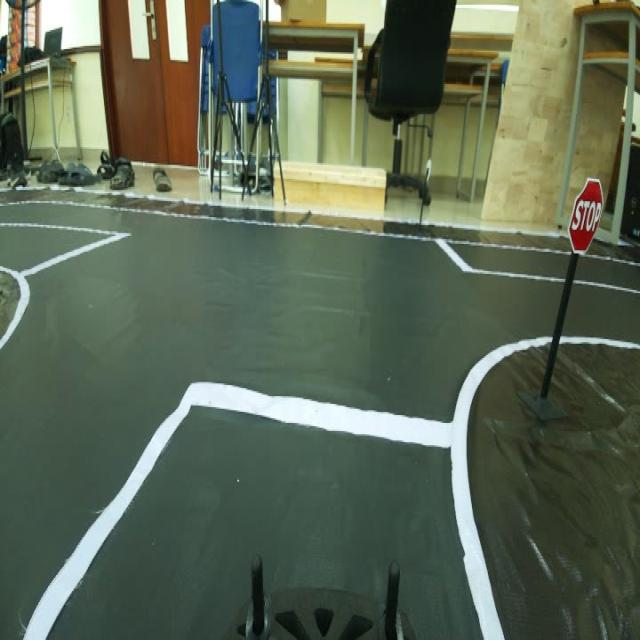stop: (568, 165, 608, 264)
